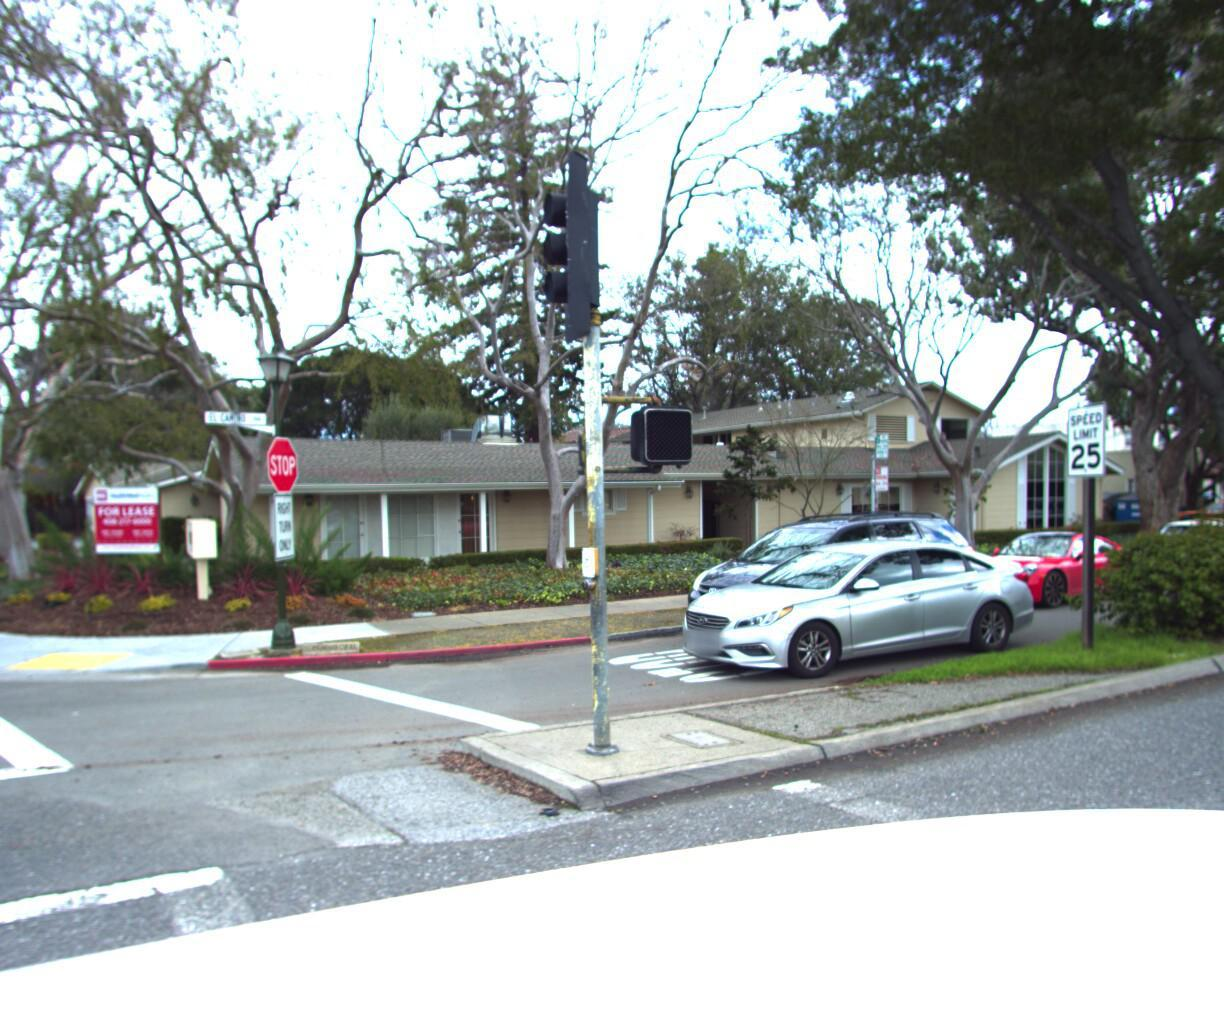car: (665, 524, 1060, 692), (665, 497, 981, 653), (948, 520, 1174, 607), (1111, 508, 1224, 593), (1167, 492, 1224, 533), (0, 503, 16, 537), (1221, 499, 1224, 573)
